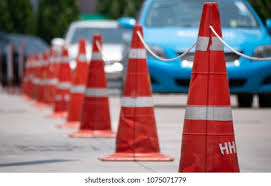car: (125, 1, 271, 105), (58, 20, 132, 88)
cone: (178, 1, 241, 174), (104, 23, 174, 160), (73, 33, 120, 138), (63, 38, 91, 128), (49, 45, 73, 117)
